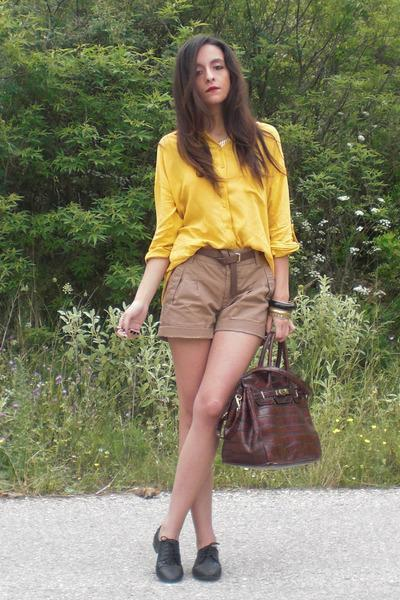bag: (212, 353, 321, 466)
shirt: (145, 121, 301, 271)
shoe: (153, 528, 221, 582)
shorts: (158, 256, 268, 338)
